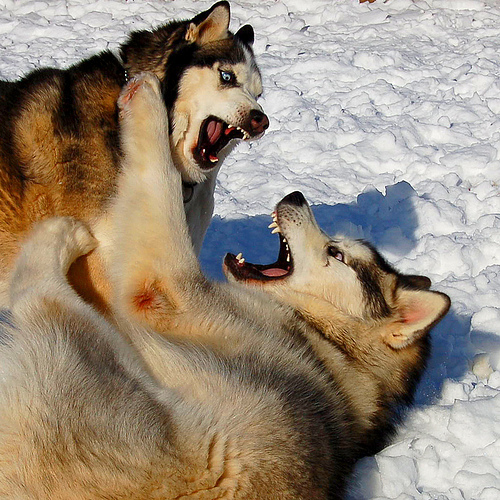dog: (0, 70, 453, 498), (0, 1, 270, 276)
